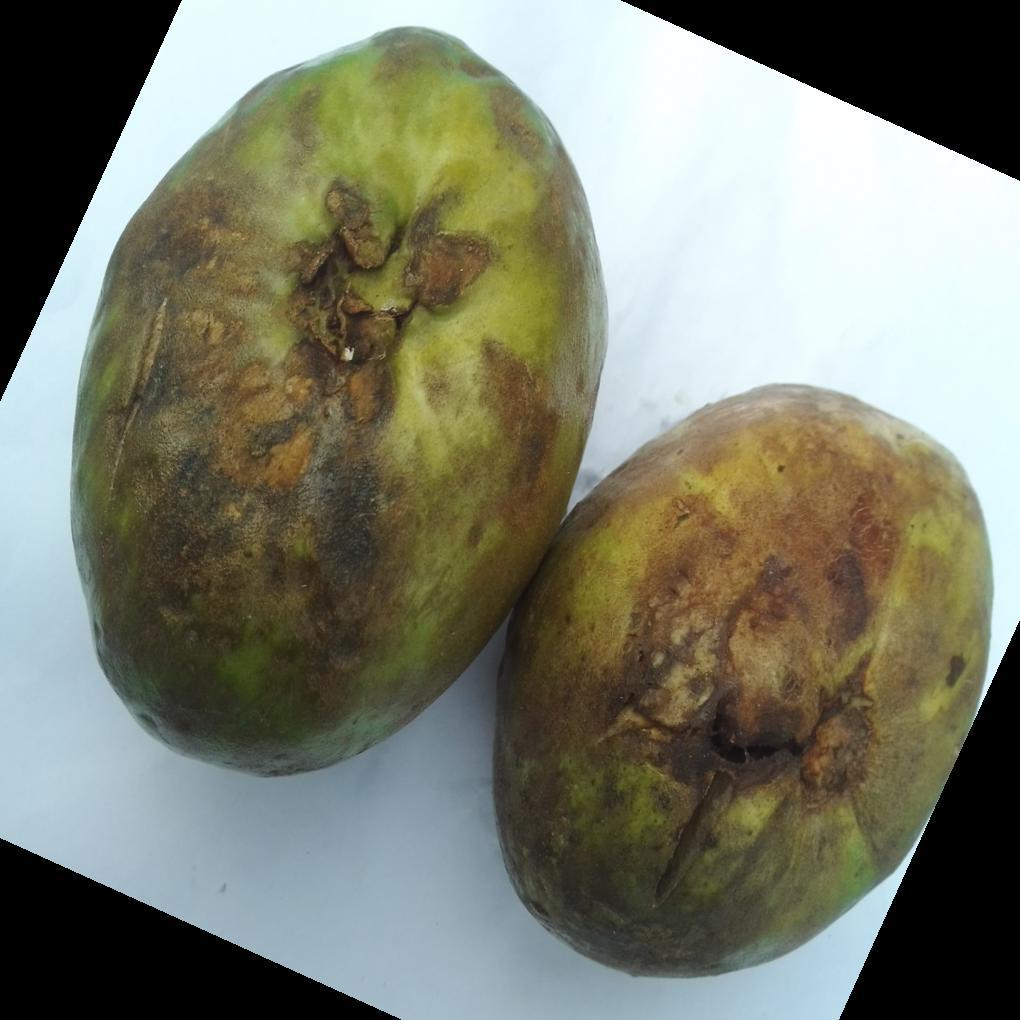FreshOrange: (68, 26, 994, 982)
